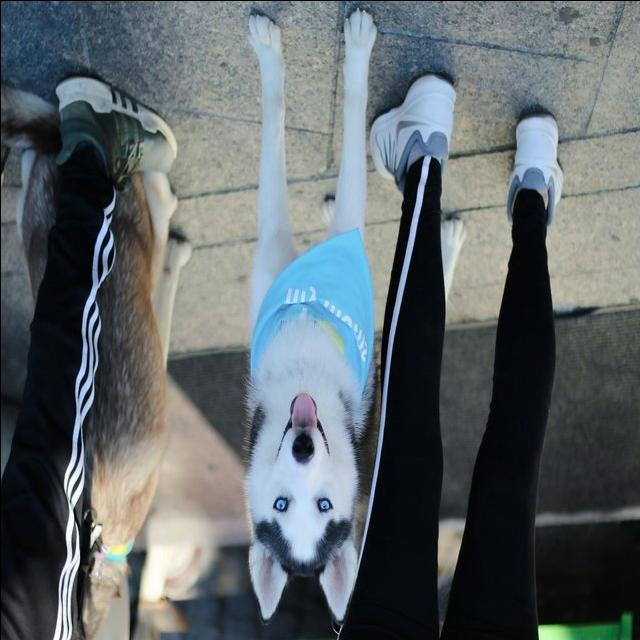husky: (239, 8, 465, 628), (0, 78, 190, 640)
